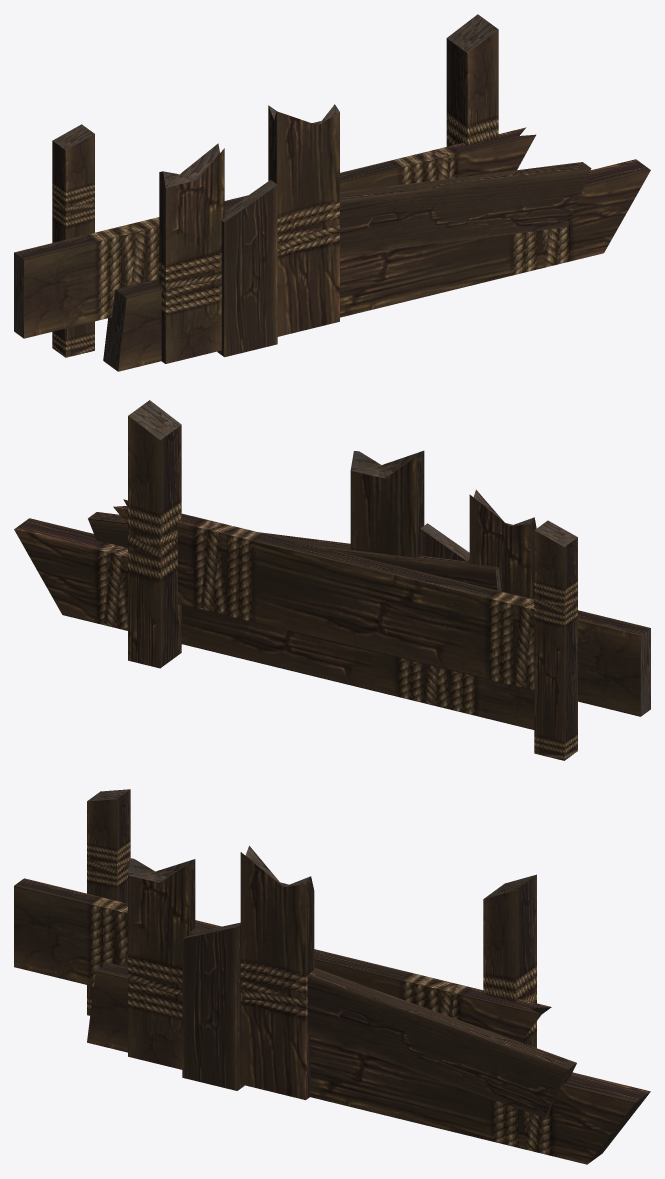
File: A_mutou_011.fbx
3 renders of one model, top to bottom at view 1: azimuth 30°, elevation 25°; view 2: azimuth 150°, elevation 25°; view 3: azimuth 330°, elevation 25°, orthographic. The views are drawn at different scales.
Visible parts, largest first — view 1: pasted__A_mutou_011; view 2: pasted__A_mutou_011; view 3: pasted__A_mutou_011.
Boxes of the visible parts, left/top/right/bottom form: pasted__A_mutou_011: left=14, top=14, right=650, bottom=371; pasted__A_mutou_011: left=14, top=400, right=650, bottom=760; pasted__A_mutou_011: left=14, top=789, right=650, bottom=1164.
Size of the model in its own units: 300 by 111 by 39.07.
